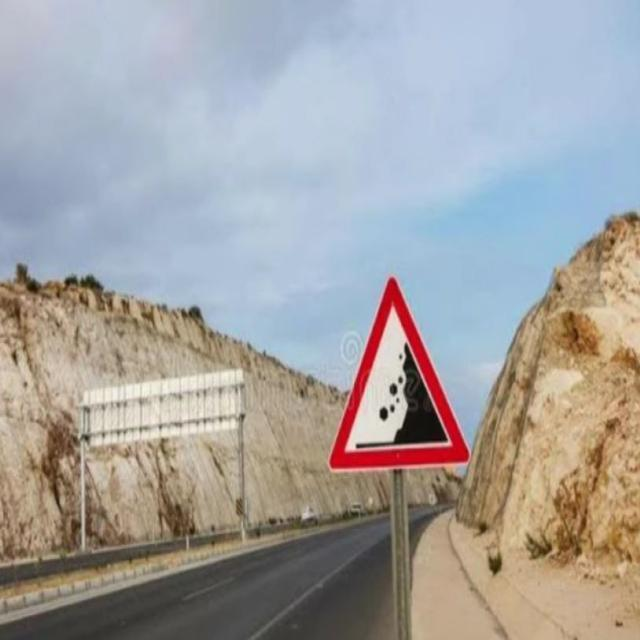falling rocks: (324, 275, 481, 476)
